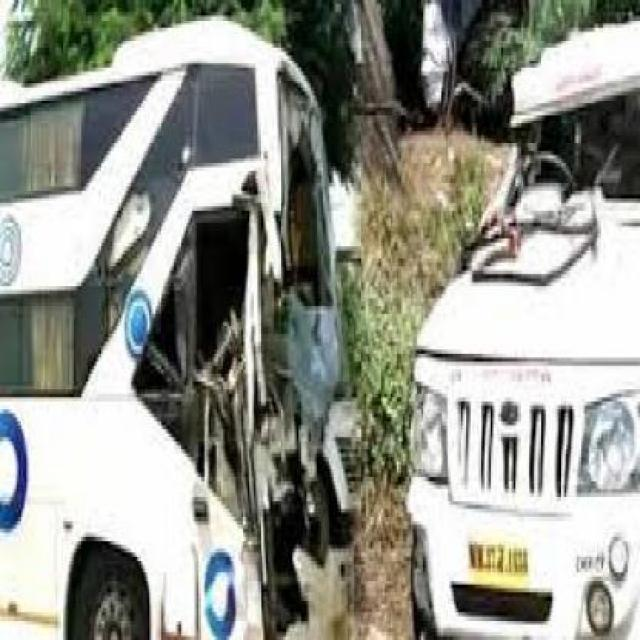accident: (46, 0, 354, 640)
